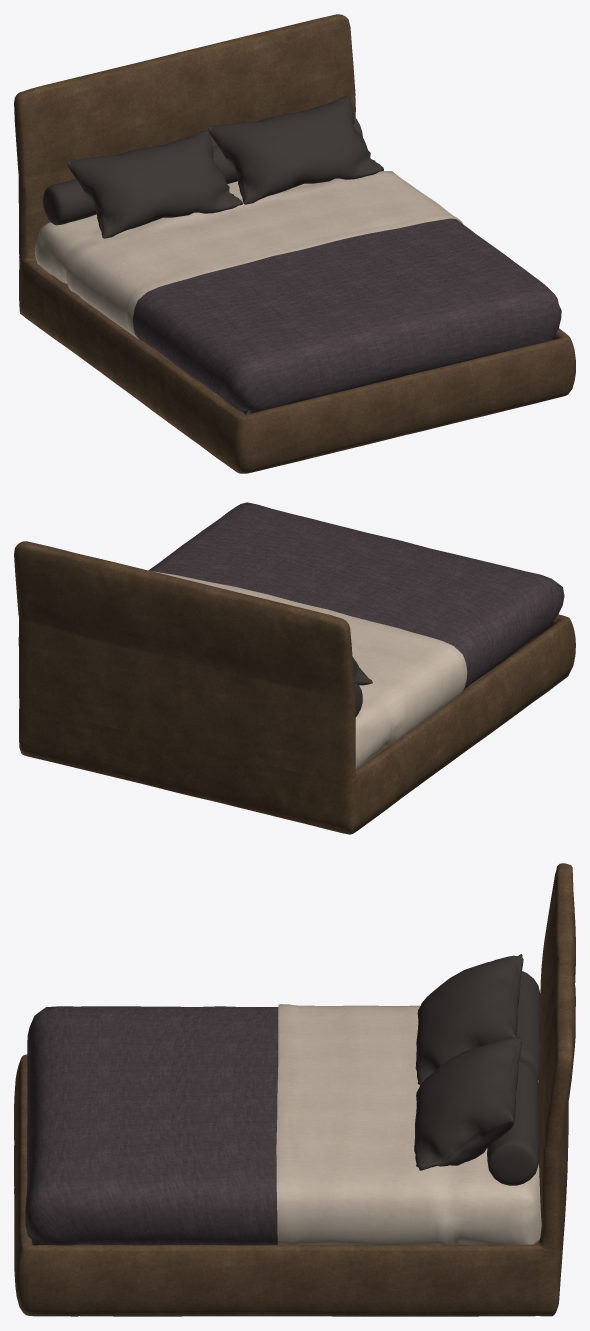
3 views of the same model, one above another, from view 1: azimuth 30°, elevation 25°; view 2: azimuth 150°, elevation 25°; view 3: azimuth 270°, elevation 25° (orthographic). The views are drawn at different scales.
Parts seen in each view (by area): view 1: Round_Pillow_4; view 2: Round_Pillow_4; view 3: Round_Pillow_4.
Part boxes in pixels (left/top/right/bottom): Round_Pillow_4: left=14, top=14, right=575, bottom=473; Round_Pillow_4: left=14, top=502, right=575, bottom=834; Round_Pillow_4: left=14, top=863, right=575, bottom=1316.
Size of the model in its own units: 1.8 by 1.1 by 2.12.
1 material, 1 textured.
